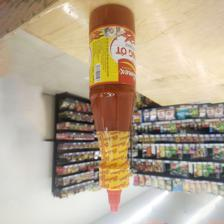Tuong: (89, 4, 135, 210)
